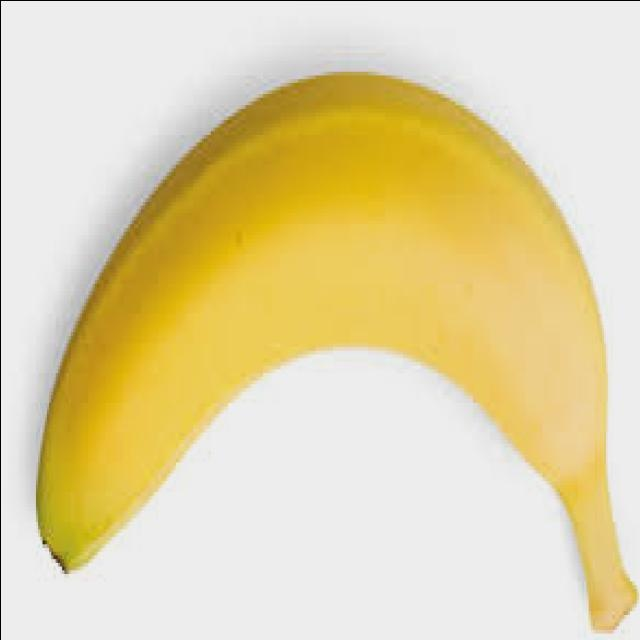agrume: (30, 56, 640, 640)
